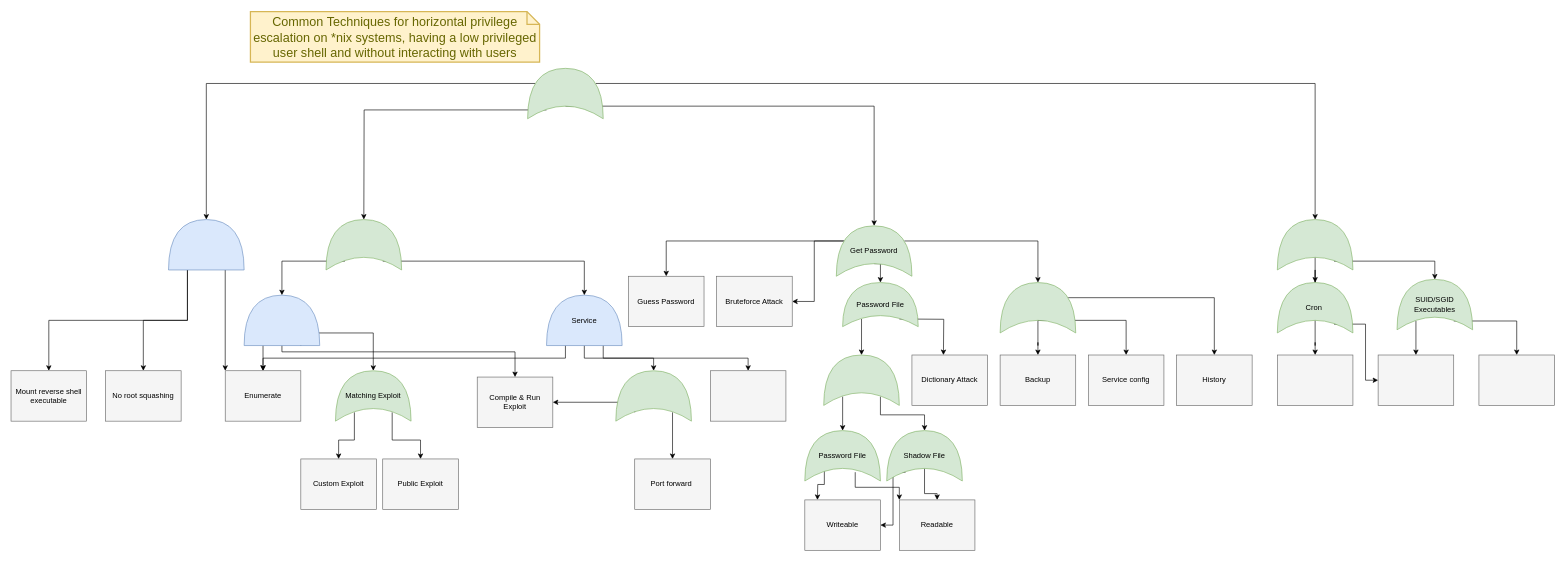
Image size: 1566x561. Some labels were removed from this diagram. Each missing label, with the centre of its shape:
"Abuse Environmental variables" belongs at point 1415,379.
"Abuse Filename" belongs at point 1315,379.
"Escape Shell" belongs at point 1315,244.
"Exploit" belongs at point 363,244.
"Gain root access" belongs at point 565,93.
"Get Hash" belongs at point 861,379.
"Inject Shared Object" belongs at point 1516,379.
"Kernel" belongs at point 281,320.
"Network File System" belongs at point 206,244.
"Readable Sensitive Files" belongs at point 1037,307.
"Service exploit can run" belongs at point 653,395.
"Service runs as root" belongs at point 748,395.
